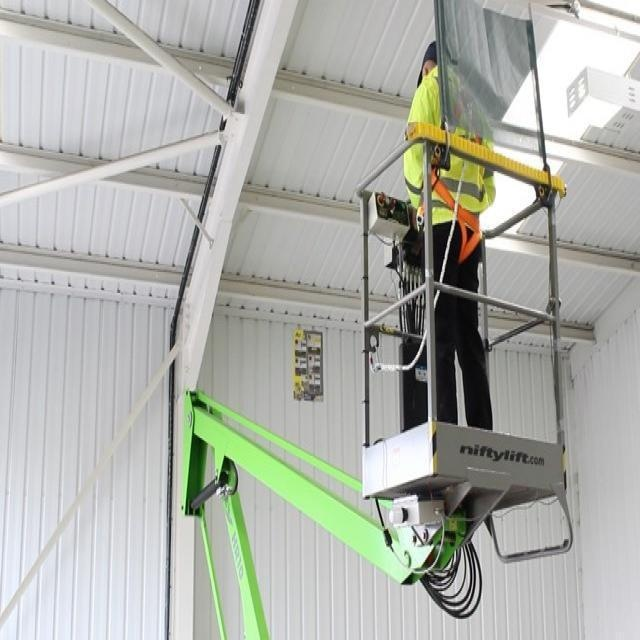Arnes_seguridad: (422, 163, 481, 263)
